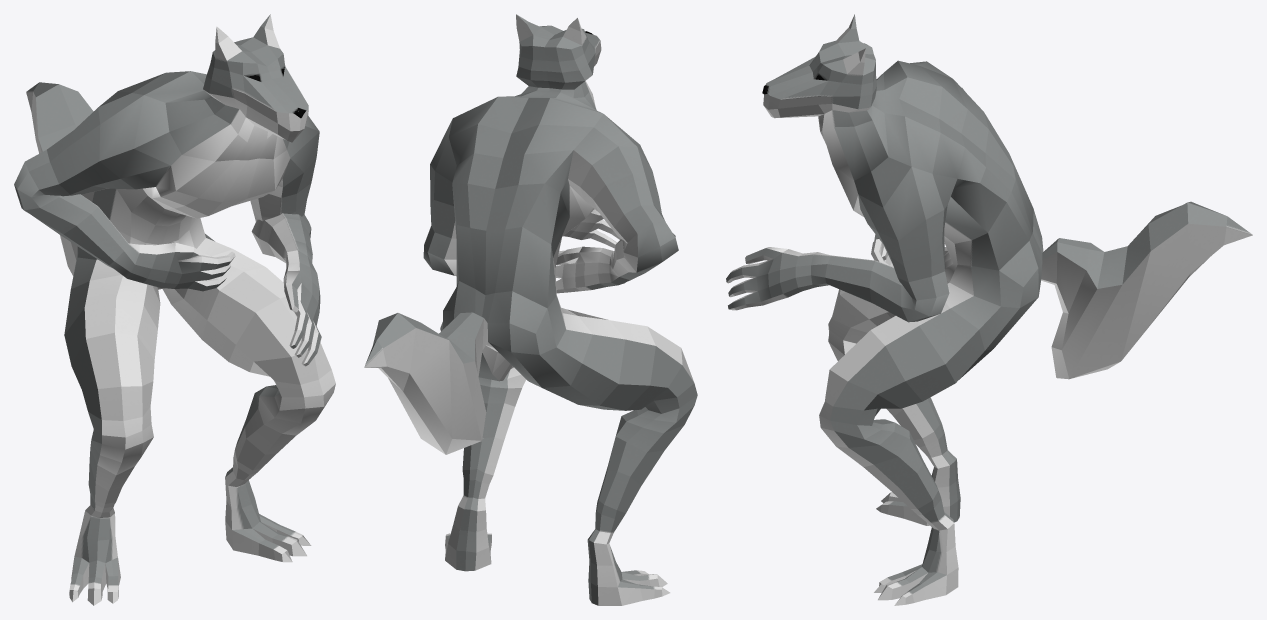
The model's file is WolfIdle_(83).obj.
The picture shows the model from 3 angles, left to right: view 1: azimuth 30°, elevation 25°; view 2: azimuth 150°, elevation 25°; view 3: azimuth 270°, elevation 25°; orthographic projection. The views are drawn at different scales.
Parts seen in each view (by area): view 1: Box001; view 2: Box001; view 3: Box001.
Boxes of the visible parts, box(x1,y1,x2,y2) form: Box001: box(14, 14, 335, 605); Box001: box(364, 14, 697, 605); Box001: box(726, 14, 1252, 605).
Bounding box in the file's own units: 67.11 × 131 × 116.
